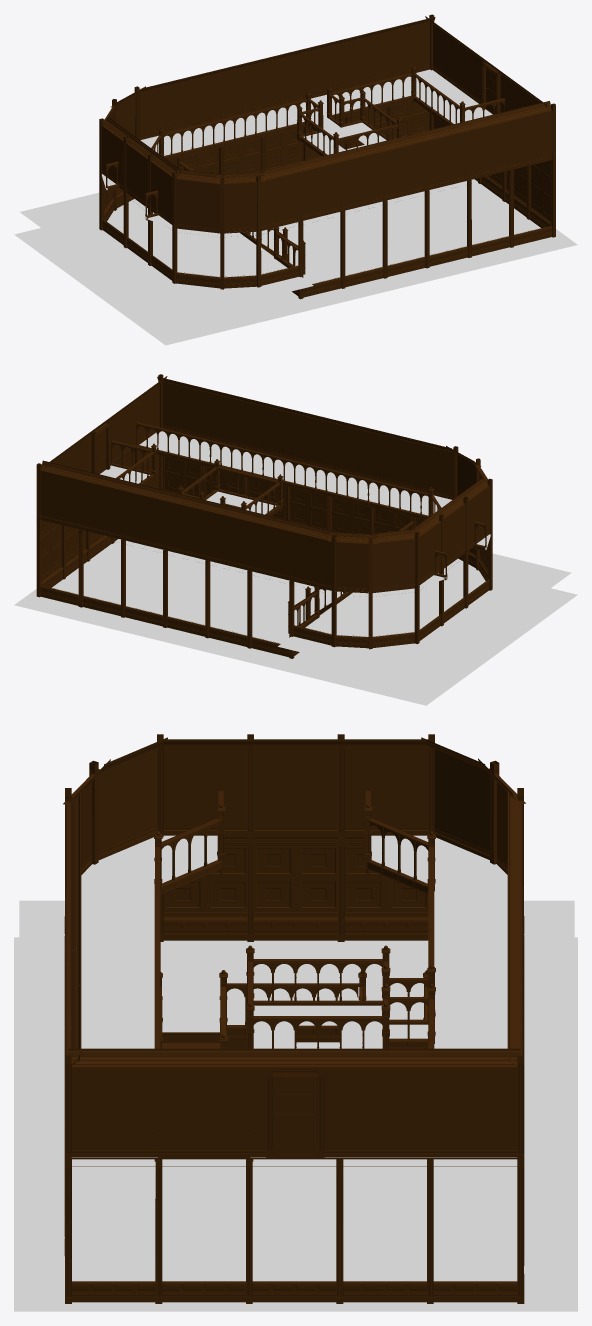
File: Escenario prueba.fbx
3 views of the same model, one above another, from view 1: azimuth 30°, elevation 25°; view 2: azimuth 150°, elevation 25°; view 3: azimuth 270°, elevation 25° (orthographic). The views are drawn at different scales.
Visible parts, largest first — view 1: Plane011, Plane010, Mat6_ParEst051, Mat6_ParEst030, Mat6_ParEst031, Mat6_ParEst032, Mat6_ParEst033, Mat6_ParEst029, Mat6_ParEst041, Mat6_ParEst045, Mat6_ParEst042, Mat6_ParEst043 (+47 smaller); view 2: Plane011, Plane010, Mat6_ParEst047, Mat6_ParEst045, Mat6_ParEst044, Mat6_ParEst043, Mat6_ParEst033, Mat6_ParEst041, Mat6_ParEst042, Mat6_ParEst030, Mat6_ParEst031, Mat6_ParEst032 (+48 smaller); view 3: Plane011, Plane010, Mat6_ParEst038, Mat6_ParEst036, Mat6_ParEst039, Mat6_ParEst035, Mat3_ParPeq013, Mat6_ParEst049, Mat6_ParEst050, Mat6_ParEst048, Mat6_ParEst051, Mat6_ParEst047 (+57 smaller).
Part boxes in pixels (x1,y1,x2,y2): Plane011: (14, 179, 577, 345); Plane010: (20, 192, 313, 321); Mat6_ParEst051: (175, 179, 220, 227); Mat6_ParEst030: (343, 151, 385, 205); Mat6_ParEst031: (385, 141, 427, 195); Mat6_ParEst032: (427, 131, 469, 184); Mat6_ParEst033: (469, 120, 511, 174); Mat6_ParEst029: (301, 162, 343, 215); Mat6_ParEst041: (347, 32, 389, 84); Mat6_ParEst045: (178, 73, 220, 126); Mat6_ParEst042: (305, 42, 347, 95); Mat6_ParEst043: (263, 52, 304, 105); Plane011: (14, 539, 577, 705); Plane010: (278, 553, 571, 681); Mat6_ParEst047: (372, 539, 415, 587); Mat6_ParEst045: (249, 521, 291, 575); Mat6_ParEst044: (207, 511, 249, 565); Mat6_ParEst043: (165, 501, 207, 554); Mat6_ParEst033: (203, 391, 245, 444); Mat6_ParEst041: (81, 480, 122, 534); Mat6_ParEst042: (123, 490, 164, 544); Mat6_ParEst030: (329, 422, 371, 475); Mat6_ParEst031: (287, 412, 329, 465); Mat6_ParEst032: (245, 402, 287, 454); Plane011: (14, 937, 577, 1311); Plane010: (19, 900, 574, 1032); Mat6_ParEst038: (339, 1067, 430, 1149); Mat6_ParEst036: (159, 1067, 249, 1149); Mat6_ParEst039: (430, 1067, 517, 1149); Mat6_ParEst035: (71, 1067, 158, 1149); Mat3_ParPeq013: (254, 837, 337, 919); Mat6_ParEst049: (254, 747, 337, 827); Mat6_ParEst050: (163, 747, 247, 827); Mat6_ParEst048: (344, 747, 428, 827); Mat6_ParEst051: (98, 748, 156, 851); Mat6_ParEst047: (435, 749, 489, 851).
Size of the model in its own units: 1957 by 630 by 1247.
